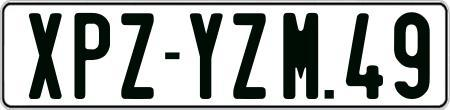4: (344, 13, 381, 102)
9: (392, 9, 432, 96)
M: (282, 13, 320, 104)
P: (73, 10, 113, 99)
X: (29, 10, 64, 98)
Y: (190, 12, 226, 99)
Z: (233, 10, 271, 96), (120, 13, 153, 100)
